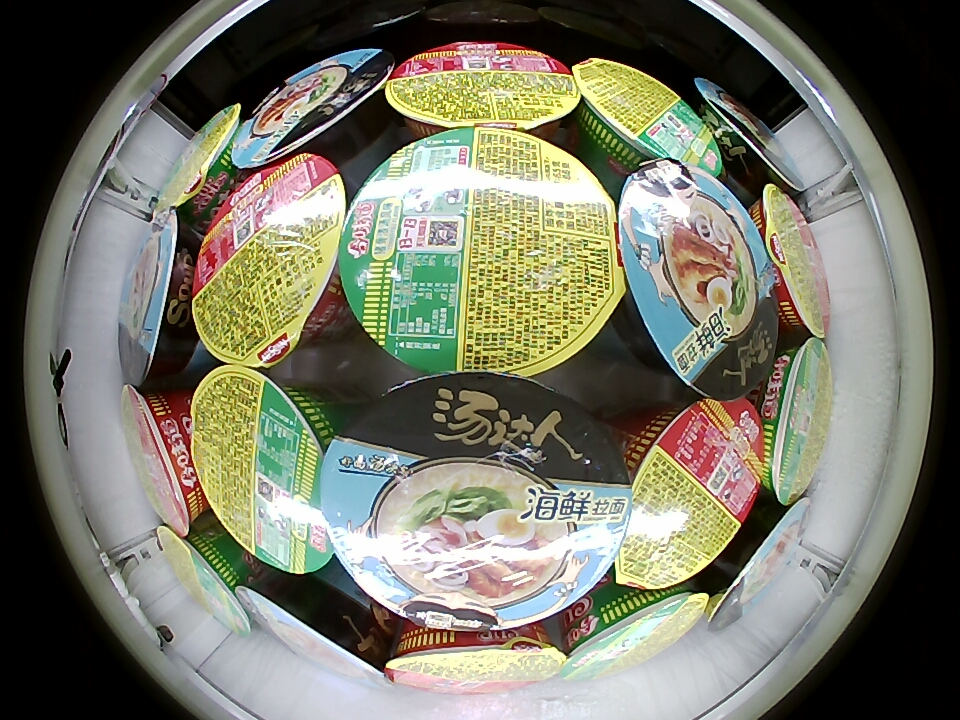heweidao2: (339, 127, 625, 378), (191, 365, 336, 577), (572, 58, 724, 178), (559, 582, 708, 681), (755, 337, 833, 504), (156, 522, 258, 637), (154, 103, 246, 223)
heweidao3: (192, 152, 347, 367), (616, 397, 765, 590), (387, 41, 580, 138), (120, 386, 208, 536), (751, 185, 831, 339), (388, 633, 568, 693)
tangdaren3: (322, 373, 630, 631), (618, 160, 772, 400), (232, 47, 395, 170), (242, 575, 393, 685), (701, 494, 811, 635), (117, 208, 198, 386), (692, 77, 805, 198)
